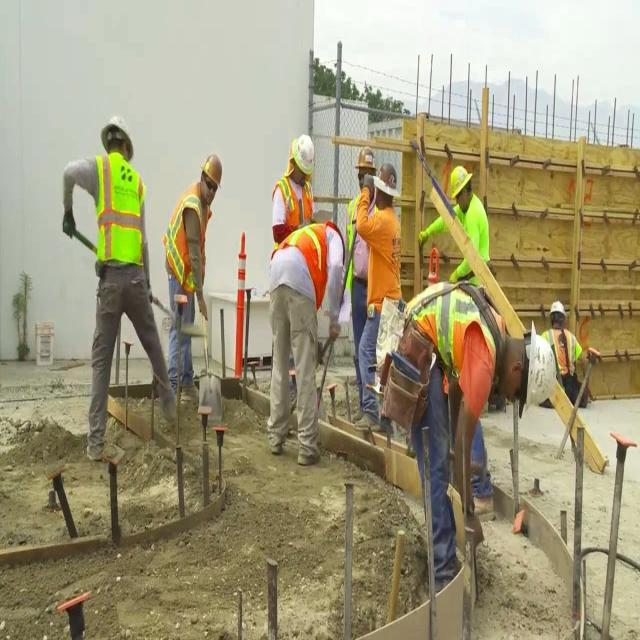hand_glove: (60, 212, 78, 238)
hand_noglove: (464, 490, 491, 559), (194, 296, 211, 329)
head_helmet: (523, 323, 555, 414), (98, 116, 134, 158), (371, 161, 399, 196), (293, 135, 317, 173), (449, 165, 474, 198), (203, 153, 223, 186), (357, 149, 375, 170), (550, 300, 566, 316)
person: (398, 281, 556, 586), (62, 122, 166, 461), (263, 221, 347, 468), (163, 154, 227, 397), (348, 166, 404, 439), (415, 166, 491, 286), (271, 134, 318, 244), (539, 300, 581, 385)
vest: (402, 278, 506, 364), (95, 153, 149, 268), (165, 188, 205, 278), (542, 324, 579, 378)
